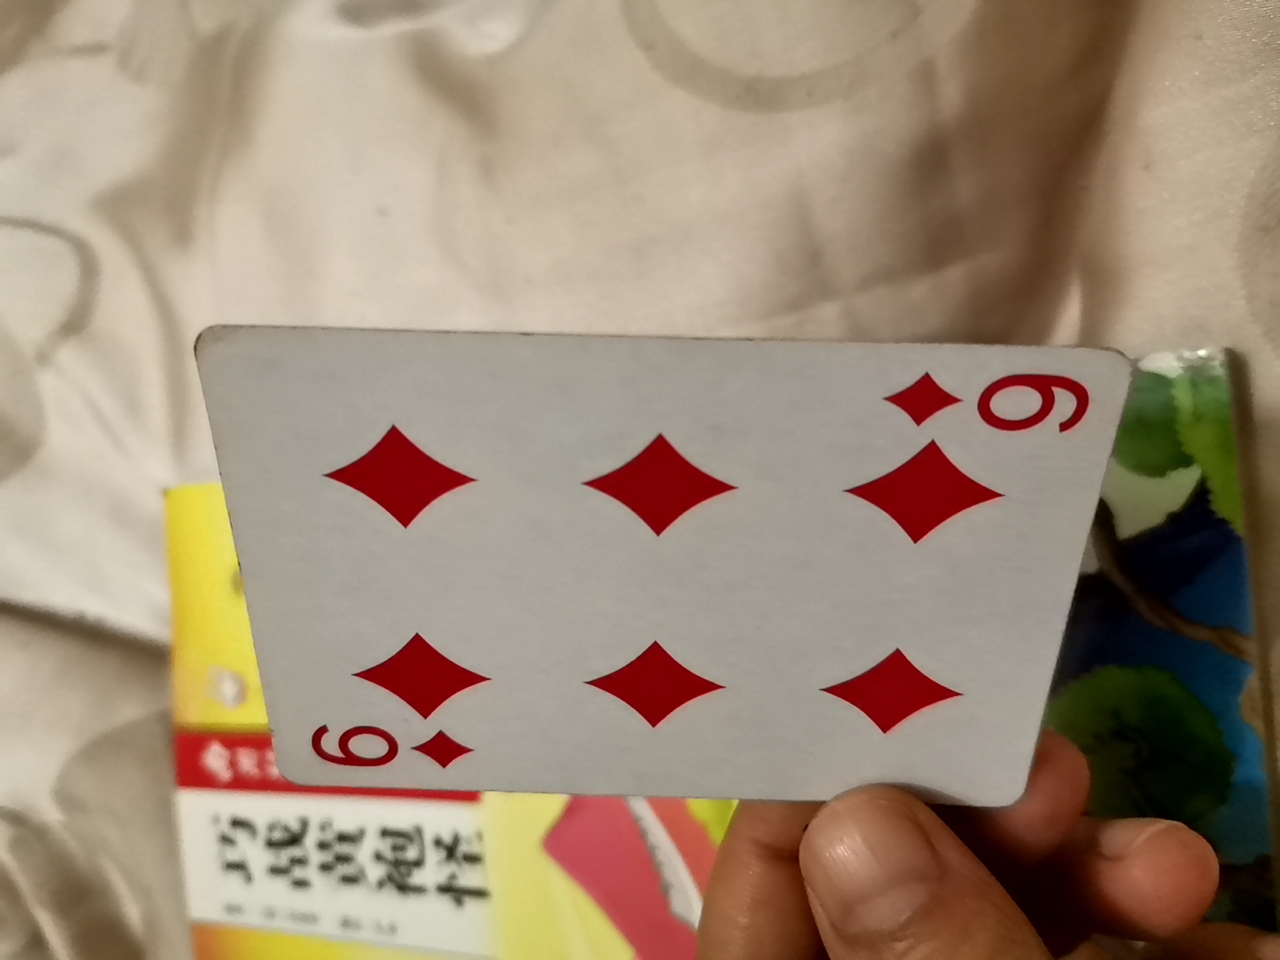fk 6: (193, 324, 1108, 830)
